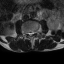CCS_stenosis: (30, 31, 31, 38)
LFS_normal: (34, 29, 36, 34)
LLS_normal: (31, 31, 33, 36)
RFS_stenosis: (26, 30, 28, 35)
RLS_normal: (28, 31, 30, 37)
